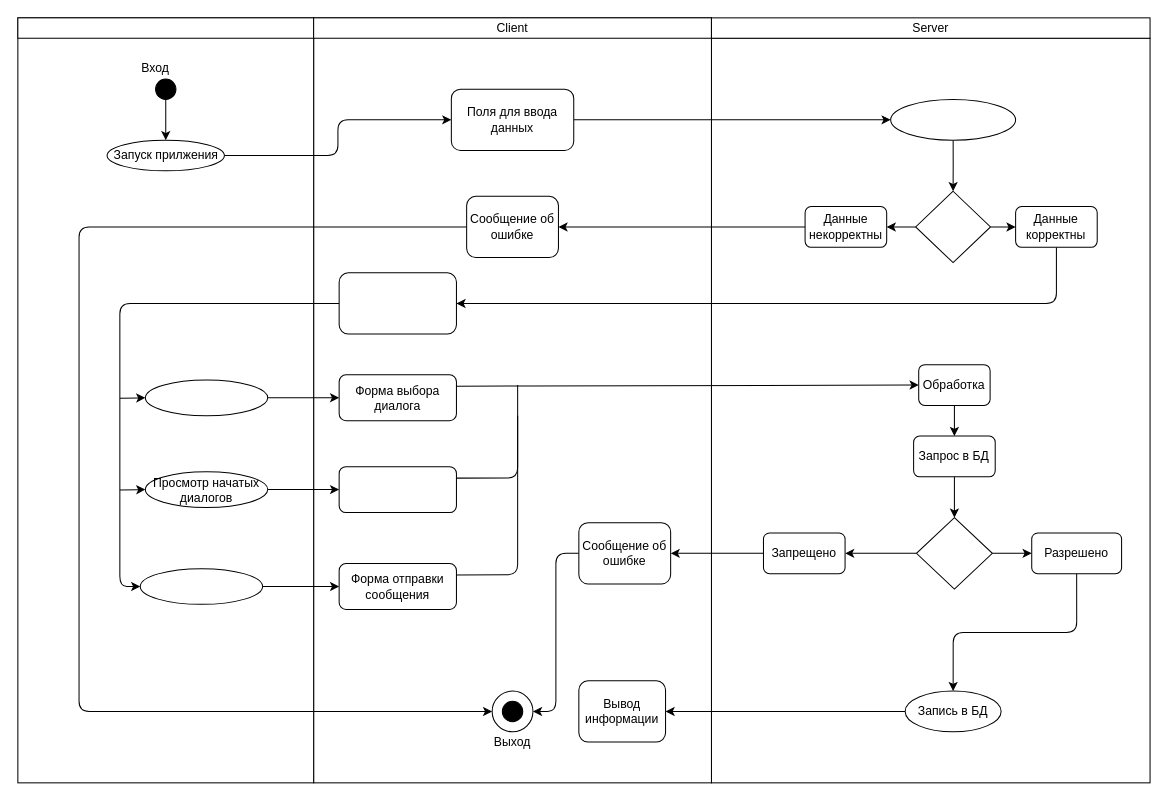
Image size: 1168x801. Some labels were removed from this diagram. Each missing label, with the centre of its shape:
User: point 165,27
Главное меню: point 397,303
Итог проверки: point 953,226
Начало диалога: point 206,397
Отправка сообщения: point 201,586
Проверка корректности: point 953,119
Результат обратотки: point 953,553
Форма просмотра списка диалогов: point 397,489
